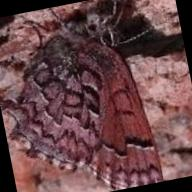butterfly: (12, 38, 162, 190)
